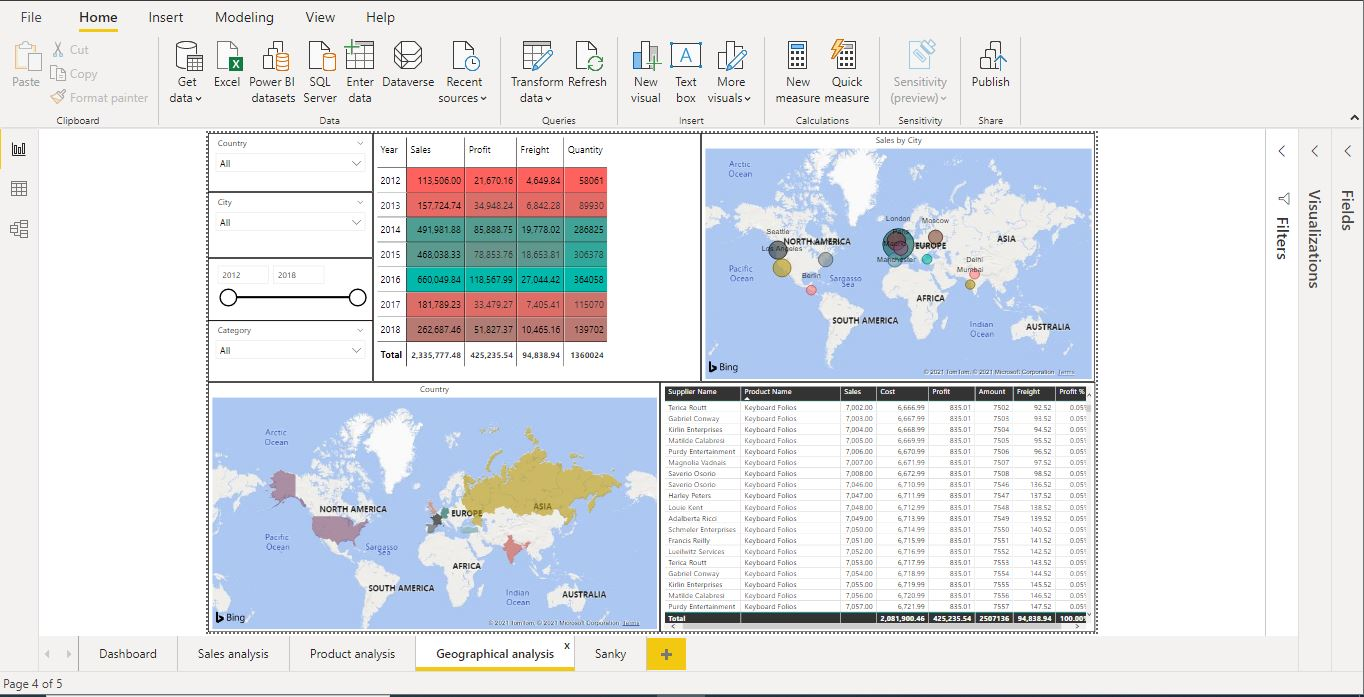

This screenshot's page, from the dashboard's own definition file:
{"tool":"powerbi","page":{"name":"Geographical analysis","canvas":[1280,720],"ordinal":3},"visuals":[{"type":"map","fields":{"Category":["Sheet1.City"],"Size":["Sheet1.Sales"]},"box":[711.6,0,568.4,359.5],"z":0},{"type":"pivotTable","fields":{"Rows":["Sheet1.Year","Sheet1.Country","Sheet1.City"],"Values":["Sheet1.Sales","Sheet1.Profit","Sheet1.Freight","Sheet1. Quantity"]},"box":[238.2,0,473.4,359.5],"z":1000},{"type":"slicer","fields":{"Values":["Sheet1.Country"]},"box":[0,0,238.2,84.7],"z":2000},{"type":"slicer","fields":{"Values":["Sheet1.City"]},"box":[0,84.7,238.2,95],"z":3000},{"type":"slicer","fields":{"Values":["Sheet1.Year"]},"box":[0,179.7,238.2,90.6],"z":4000},{"type":"slicer","fields":{"Values":["Sheet1.Category"]},"box":[0,270.3,238.2,89.1],"z":5000},{"type":"filledMap","fields":{"Category":["Sheet1.Country"]},"box":[0,359.5,651.7,360.9],"z":6000},{"type":"tableEx","fields":{"Values":["Sheet1.Supplier Name","Sheet1.Product Name","Sheet1.Sales","Sheet1.Cost","Sheet1.Profit","Sheet1.Amount","Sheet1.Freight","Sheet1.Column"]},"box":[651.7,359.5,628.3,360.9],"z":7000}]}

Visuals, with their boxes on the page's 1280x720 design canvas (x1, y1, x2, y2). These are canvas units, not pixel positions in the 1364x697 screenshot, which may show the page scaled, cropped or inside an application window:
map - Sheet1.City x Sheet1.Sales: BBox(712, 0, 1280, 360)
pivotTable - Sheet1.Year x Sheet1.Country: BBox(238, 0, 712, 360)
slicer - Sheet1.Country: BBox(0, 0, 238, 85)
slicer - Sheet1.City: BBox(0, 85, 238, 180)
slicer - Sheet1.Year: BBox(0, 180, 238, 270)
slicer - Sheet1.Category: BBox(0, 270, 238, 359)
filledMap - Sheet1.Country: BBox(0, 360, 652, 720)
tableEx - Sheet1.Supplier Name x Sheet1.Product Name: BBox(652, 360, 1280, 720)
